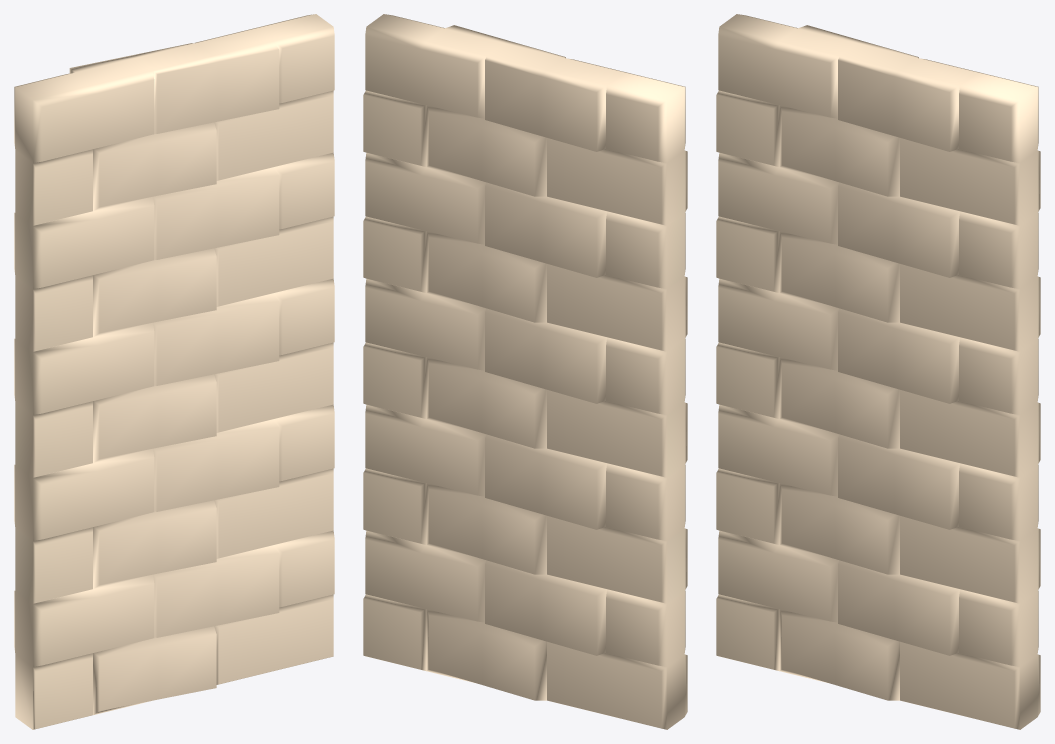
Rendered from BrickWall.004.glb.
3 renders of one model, left to right at view 1: azimuth 30°, elevation 25°; view 2: azimuth 150°, elevation 25°; view 3: azimuth 330°, elevation 25°, orthographic.
Visible parts, largest first — view 1: BrickWall.004; view 2: BrickWall.004; view 3: BrickWall.004.
Boxes of the visible parts, x1,y1,x2,y2 form: BrickWall.004: (14,14,334,729); BrickWall.004: (363,14,687,729); BrickWall.004: (716,14,1040,729).
Size of what is drawn, in the model's own units: 1.99 by 3.98 by 0.3841.
Materials: 1 (1 with a texture image).
